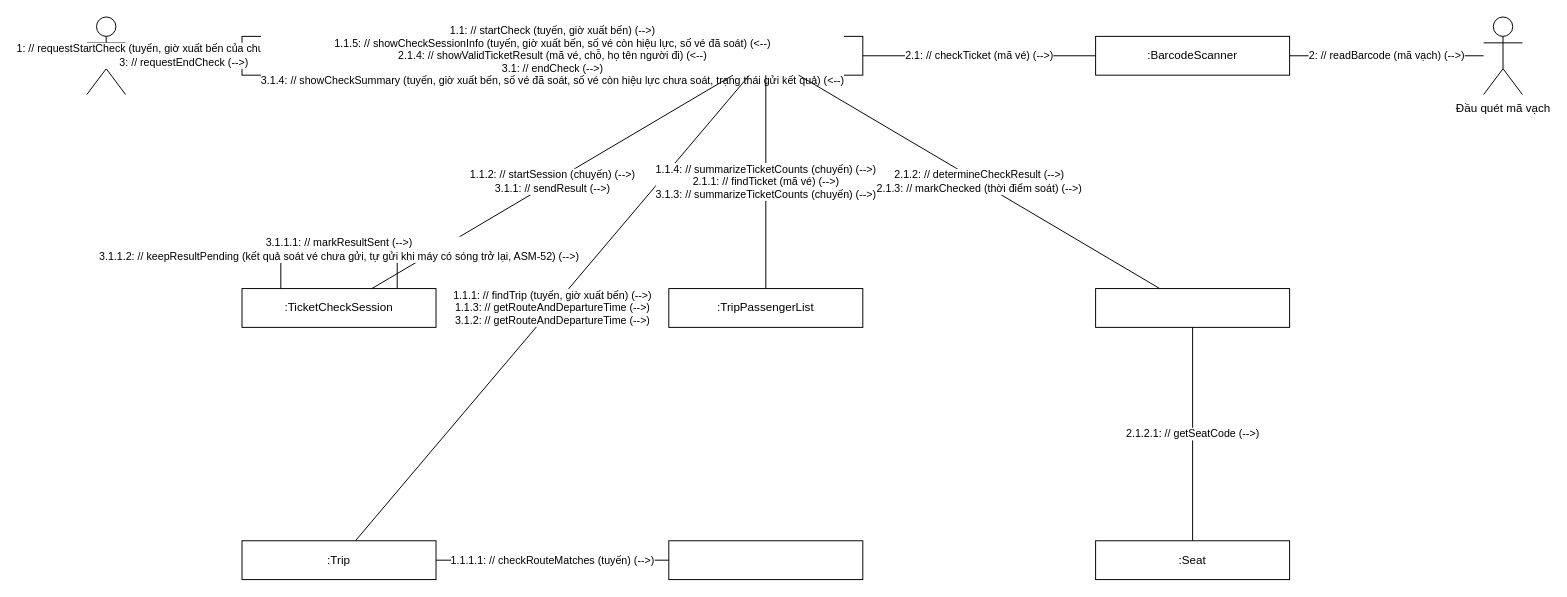
Some shapes in this 1567 by 597 pixel diagram are drawn without their labels. Here are the shapes that lost their labels. From the top down, the box of each, then its label:
(86, 16, 126, 95): Phụ xe
(668, 35, 863, 75): :CheckBoardingTicketController
(1095, 288, 1290, 327): :Ticket
(668, 540, 863, 580): :Route
